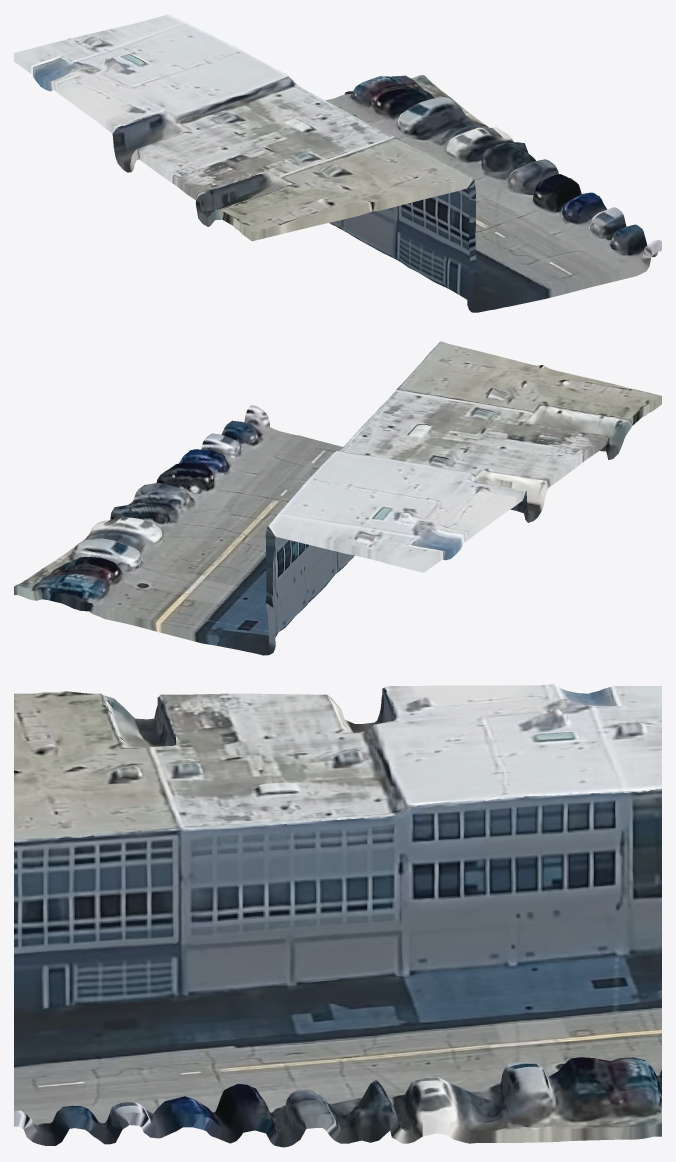
The model's file is z20-167730-405194-h0-yup-uvflip-v3-world.glb.
3 renders of one model, top to bottom at view 1: azimuth 30°, elevation 25°; view 2: azimuth 150°, elevation 25°; view 3: azimuth 270°, elevation 25°, orthographic. The views are drawn at different scales.
Size of the model in its own units: 30.16 by 10.76 by 30.32.
1 material, 1 textured.
